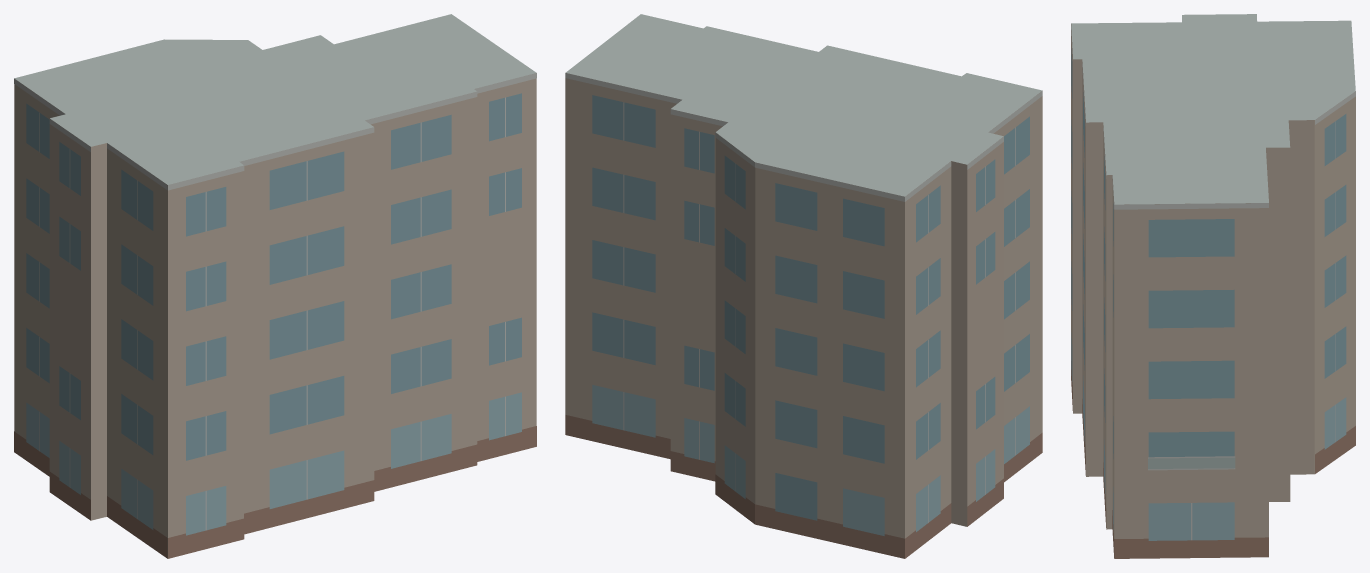
File: survey-upis-32727398.glb
3 views of the same model, side by side, from view 1: azimuth 30°, elevation 25°; view 2: azimuth 150°, elevation 25°; view 3: azimuth 270°, elevation 25° (orthographic). The views are drawn at different scales.
Visible parts, largest first — view 1: survey-upis-32727398.tmp; view 2: survey-upis-32727398.tmp; view 3: survey-upis-32727398.tmp.
Boxes of the visible parts, bbox=[...] form: survey-upis-32727398.tmp: bbox=[14, 14, 536, 558]; survey-upis-32727398.tmp: bbox=[565, 14, 1042, 558]; survey-upis-32727398.tmp: bbox=[1071, 14, 1355, 558].
Bounding box in the file's own units: 19.27 × 16.7 × 12.17.
